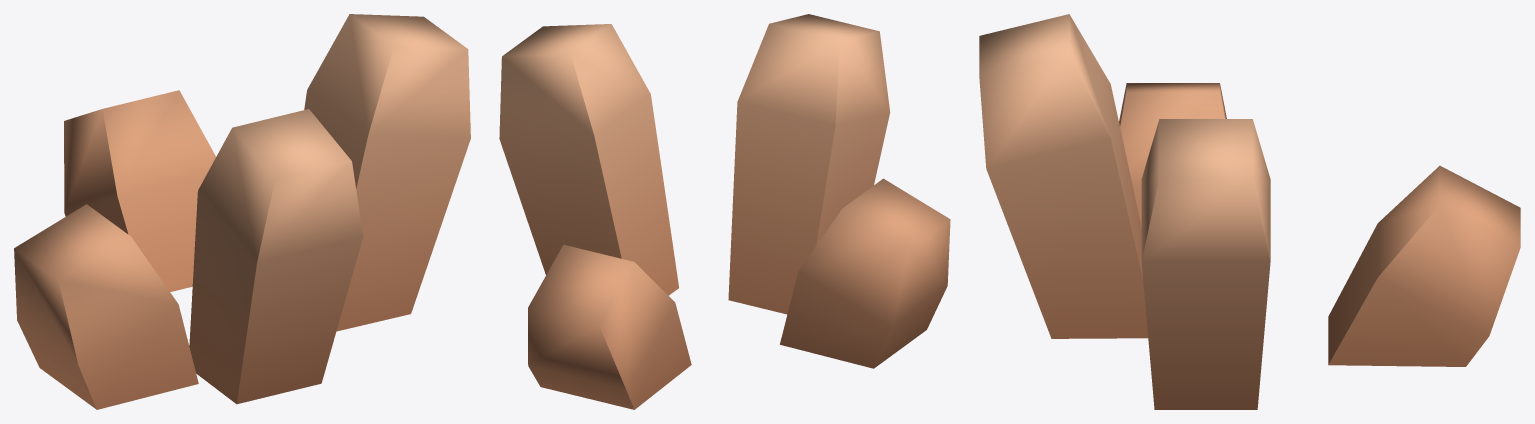
The model's file is grass.glb.
The picture shows the model from 3 angles, left to right: view 1: azimuth 30°, elevation 25°; view 2: azimuth 150°, elevation 25°; view 3: azimuth 270°, elevation 25°; orthographic projection. The views are drawn at different scales.
Visible parts, largest first — view 1: grass; view 2: grass; view 3: grass.
Boxes of the visible parts, x1=… form: grass: x1=14, y1=14, x2=470, y2=409; grass: x1=499, y1=14, x2=950, y2=409; grass: x1=979, y1=14, x2=1520, y2=409.
Size of the model in its own units: 0.5187 by 0.3139 by 0.5437.
